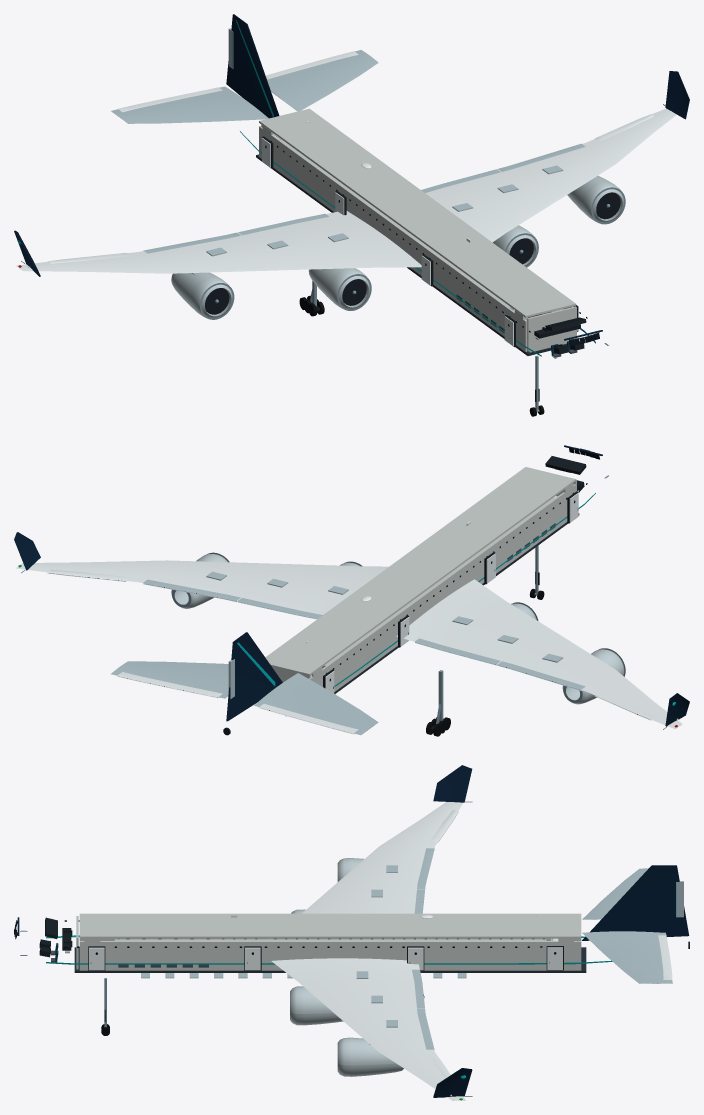
The model's file is A350-900_NEO_Concept.obj.
3 views of the same model, one above another, from view 1: azimuth 30°, elevation 25°; view 2: azimuth 150°, elevation 25°; view 3: azimuth 270°, elevation 25° (orthographic). The views are drawn at different scales.
Parts seen in each view (by area): view 1: Cabin_Lining___Cabin_Warm_Grey, Port_Wing, Starboard_Wing, Port_Horizontal_Stabiliser, Starboard_Horizontal_Stabiliser, Vertical_stabiliser___aqua_navy, Fan_face, Port_Trent-XWB-style_turbofan_2, Port_Trent-XWB-style_turbofan_1, Starboard_Trent-XWB-style_turbofan_2, Pressure_door_leaf, Inlet_lip (+6 smaller); view 2: Cabin_Lining___Cabin_Warm_Grey, Port_Wing, Starboard_Wing, Port_Horizontal_Stabiliser, Vertical_stabiliser___aqua_navy, Starboard_Horizontal_Stabiliser, Pressure_door_leaf, Port_Trent-XWB-style_turbofan_2, Spoiler_panel, Starboard_Elevator, Port_Elevator, Starboard_Trent-XWB-style_turbofan_2 (+9 smaller); view 3: Cabin_Lining___Cabin_Warm_Grey, Starboard_Wing, Port_Wing, Vertical_stabiliser___aqua_navy, Starboard_Horizontal_Stabiliser, Starboard_Trent-XWB-style_turbofan_2, Pressure_door_leaf, Cabin_Fittings___Cabin_Carpet, Starboard_Trent-XWB-style_turbofan_1, Port_blended_wingtip_fence, Cabin_Fittings___Cabin_Warm_Grey, Port_Horizontal_Stabiliser (+3 smaller).
Boxes of the visible parts, box(x1,y1,x2,y2) form: Cabin_Lining___Cabin_Warm_Grey: box(259, 108, 576, 351); Port_Wing: box(16, 211, 421, 273); Starboard_Wing: box(425, 108, 676, 242); Port_Horizontal_Stabiliser: box(111, 86, 268, 123); Starboard_Horizontal_Stabiliser: box(267, 50, 378, 111); Vertical_stabiliser___aqua_navy: box(226, 14, 279, 118); Fan_face: box(205, 192, 620, 314); Port_Trent-XWB-style_turbofan_2: box(171, 272, 232, 317); Port_Trent-XWB-style_turbofan_1: box(308, 268, 369, 309); Starboard_Trent-XWB-style_turbofan_2: box(567, 176, 623, 222); Pressure_door_leaf: box(262, 138, 578, 346); Inlet_lip: box(200, 187, 625, 319); Cabin_Lining___Cabin_Warm_Grey: box(265, 467, 576, 691); Port_Wing: box(396, 579, 682, 729); Starboard_Wing: box(16, 560, 388, 614); Port_Horizontal_Stabiliser: box(254, 673, 378, 735); Vertical_stabiliser___aqua_navy: box(226, 632, 282, 721); Starboard_Horizontal_Stabiliser: box(110, 661, 228, 698); Pressure_door_leaf: box(325, 493, 578, 693); Port_Trent-XWB-style_turbofan_2: box(562, 649, 624, 704); Spoiler_panel: box(206, 571, 563, 662); Starboard_Elevator: box(117, 672, 222, 698); Port_Elevator: box(259, 704, 358, 734); Starboard_Trent-XWB-style_turbofan_2: box(171, 554, 227, 608); Cabin_Lining___Cabin_Warm_Grey: box(76, 913, 581, 970); Starboard_Wing: box(271, 958, 465, 1100); Port_Wing: box(270, 798, 465, 938); Vertical_stabiliser___aqua_navy: box(582, 865, 689, 940); Starboard_Horizontal_Stabiliser: box(582, 931, 672, 983); Starboard_Trent-XWB-style_turbofan_2: box(337, 1037, 403, 1076); Pressure_door_leaf: box(89, 947, 562, 970); Cabin_Fittings___Cabin_Carpet: box(74, 947, 586, 972); Starboard_Trent-XWB-style_turbofan_1: box(290, 986, 343, 1025); Port_blended_wingtip_fence: box(433, 765, 472, 802); Cabin_Fittings___Cabin_Warm_Grey: box(65, 938, 553, 969); Port_Horizontal_Stabiliser: box(582, 868, 648, 919).
Bounding box in the file's own units: 64.92 × 16.75 × 61.05.
